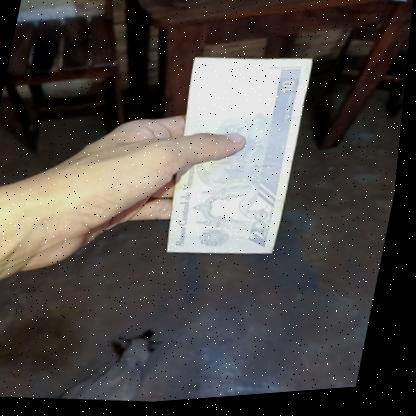ten-back-vef: (160, 50, 314, 269)
